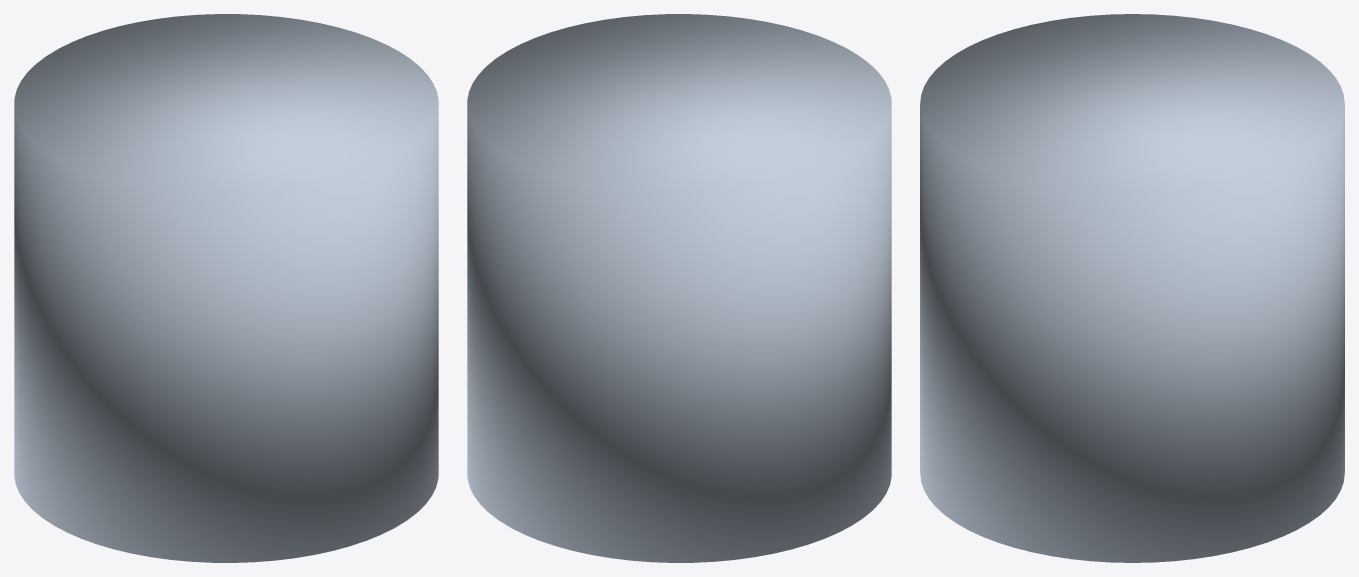
File: blender_3d_cylinder.glb
3 views of the same model, side by side, from view 1: azimuth 30°, elevation 25°; view 2: azimuth 150°, elevation 25°; view 3: azimuth 270°, elevation 25° (orthographic).
Parts seen in each view (by area): view 1: Cylinder; view 2: Cylinder; view 3: Cylinder.
Part boxes in pixels (box(x1,y1,x2,y2)): Cylinder: box(14, 14, 438, 562); Cylinder: box(467, 14, 891, 562); Cylinder: box(920, 14, 1344, 562).
Size of the model in its own units: 2.5 by 2.4 by 2.5.
